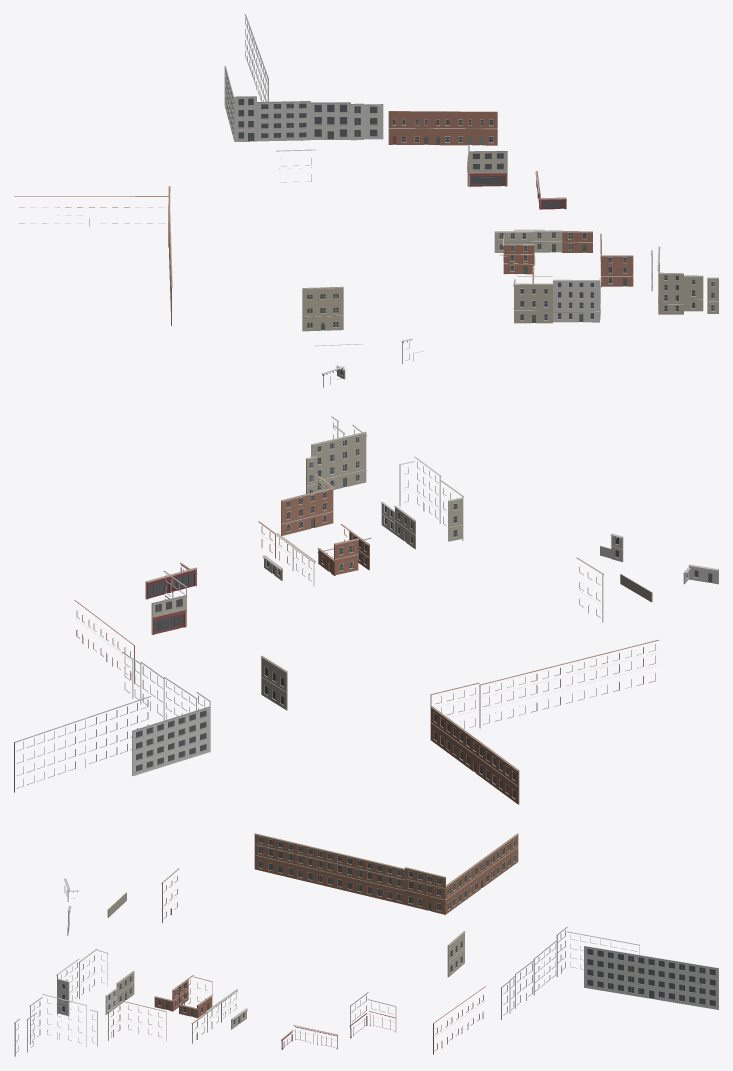
3 renders of one model, top to bottom at view 1: azimuth 30°, elevation 25°; view 2: azimuth 150°, elevation 25°; view 3: azimuth 270°, elevation 25°, orthographic. The views are drawn at different scales.
Parts seen in each view (by area): view 1: f:way/134555065, f:way/134557069, f:way/135921496, f:way/136176027, f:way/134912765, f:way/135037410, f:way/135037196, f:way/135037412, f:way/135037411, f:way/135037409, f:way/3986794, f:way/136176023; view 2: f:way/134555065, f:way/3986794, f:way/135921496, f:way/135037411, f:way/135037410, f:way/135037196, f:way/135037409, f:way/134912759, f:way/39185760, f:way/135037221, f:way/136176027, f:way/135037412; view 3: f:way/3986794, f:way/134555065, f:way/136176027, f:way/135921496, f:way/135037410, f:way/134912759, f:way/135037409, f:way/135921522, f:way/135037196, f:way/135037412.
Boxes of the visible parts, box(x1,y1,x2,y2) form: f:way/134555065: box(224, 14, 383, 141); f:way/134557069: box(388, 111, 497, 145); f:way/135921496: box(650, 246, 718, 314); f:way/136176027: box(552, 278, 601, 322); f:way/134912765: box(302, 286, 343, 331); f:way/135037410: box(513, 276, 552, 323); f:way/135037196: box(467, 144, 507, 186); f:way/135037412: box(494, 229, 562, 252); f:way/135037411: box(600, 233, 633, 287); f:way/135037409: box(502, 236, 535, 274); f:way/3986794: box(14, 186, 172, 325); f:way/136176023: box(562, 231, 592, 252); f:way/134555065: box(14, 651, 210, 792); f:way/3986794: box(430, 639, 659, 804); f:way/135921496: box(306, 416, 367, 493); f:way/135037411: box(281, 474, 333, 535); f:way/135037410: box(394, 480, 463, 549); f:way/135037196: box(151, 570, 187, 634); f:way/135037409: box(317, 524, 358, 575); f:way/134912759: box(261, 655, 287, 710); f:way/39185760: box(600, 533, 718, 584); f:way/135037221: box(145, 562, 197, 599); f:way/136176027: box(380, 456, 441, 534); f:way/135037412: box(262, 533, 316, 586); f:way/3986794: box(254, 833, 518, 914); f:way/134555065: box(501, 927, 718, 1019); f:way/136176027: box(56, 958, 117, 1016); f:way/135921496: box(14, 994, 97, 1056); f:way/135037410: box(78, 949, 134, 1006); f:way/134912759: box(447, 931, 465, 977); f:way/135037409: box(178, 975, 212, 1018); f:way/135921522: box(154, 979, 188, 1011); f:way/135037196: box(350, 992, 396, 1038); f:way/135037412: box(205, 989, 247, 1032).
Bounding box in the file's own units: 127 × 14.08 × 189.
